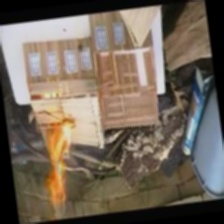fire: (27, 110, 91, 214)
